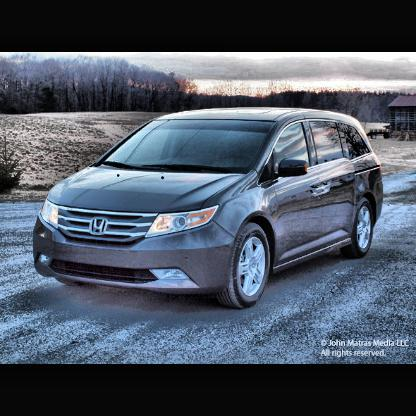Honda Odyssey Minivan 2012: (32, 104, 387, 312)
